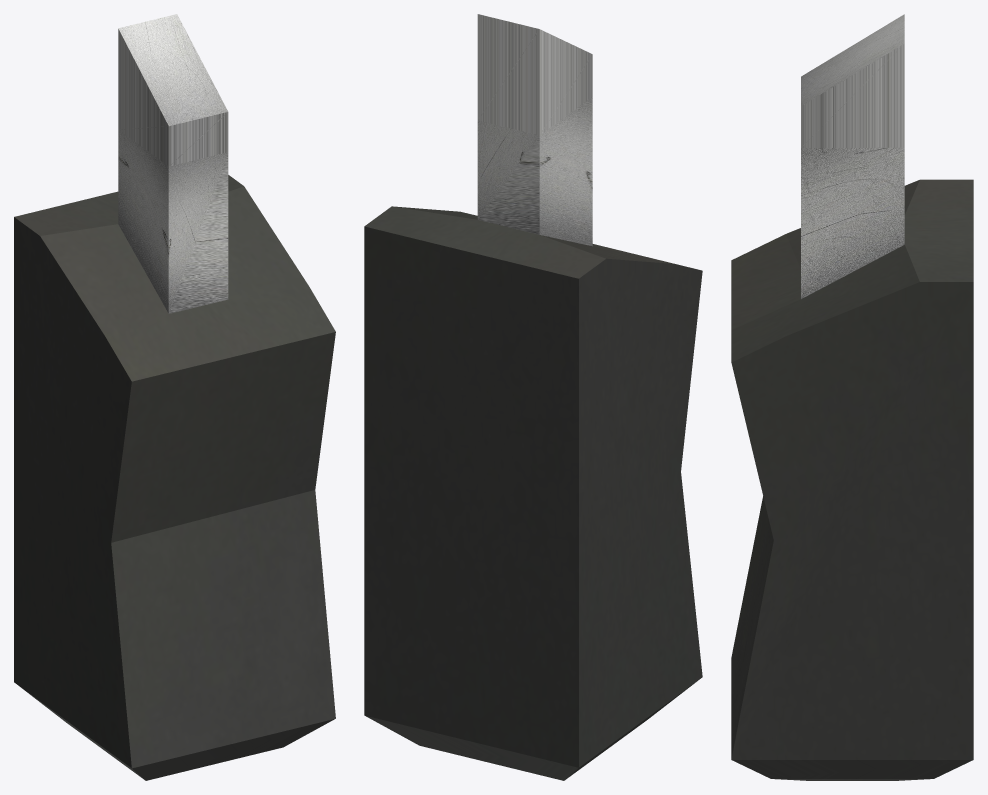
File: boxCutter.glb
3 renders of one model, left to right at view 1: azimuth 30°, elevation 25°; view 2: azimuth 150°, elevation 25°; view 3: azimuth 270°, elevation 25°, orthographic. The views are drawn at different scales.
Visible parts, largest first — view 1: handle, blade; view 2: handle, blade; view 3: handle, blade.
Boxes of the visible parts, x1,y1,x2,y2 form: handle: [14, 175, 335, 780]; blade: [118, 14, 228, 313]; handle: [364, 206, 702, 780]; blade: [477, 14, 592, 246]; handle: [731, 179, 973, 780]; blade: [801, 14, 904, 298].
Bounding box in the file's own units: 2 × 6.68 × 2.
2 materials, 2 textured.
